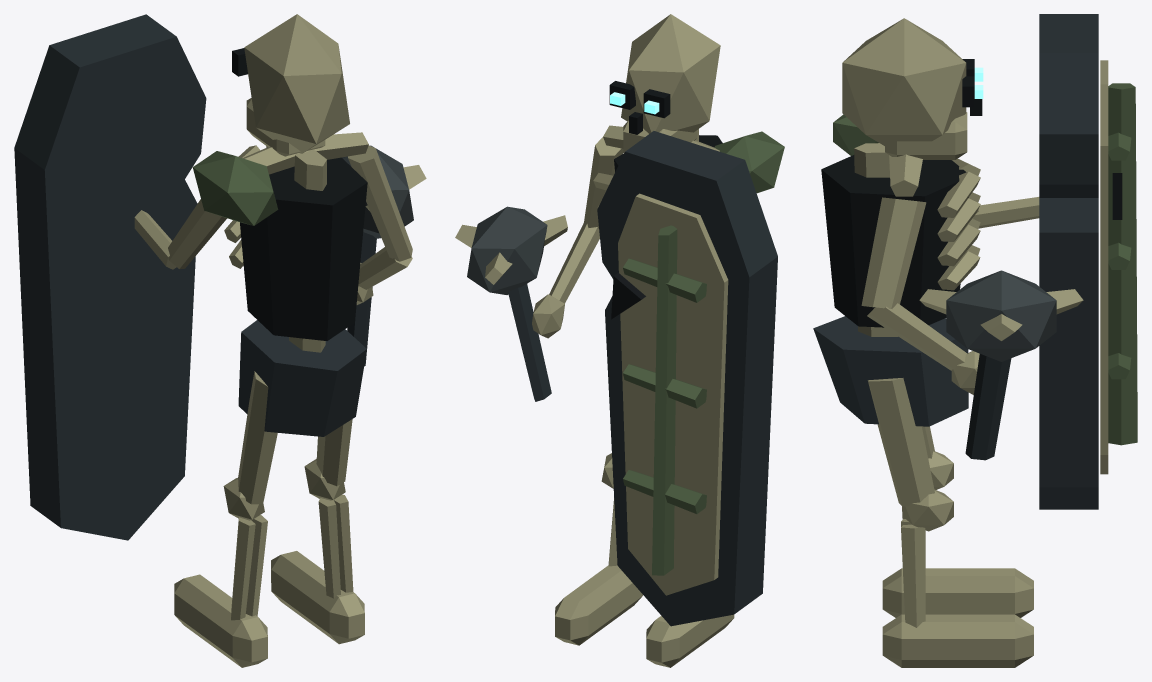
File: bone_shieldbearer.glb
3 renders of one model, left to right at view 1: azimuth 30°, elevation 25°; view 2: azimuth 150°, elevation 25°; view 3: azimuth 270°, elevation 25°, orthographic. The views are drawn at different scales.
Parts seen in each view (by area): view 1: bone_shieldbearer; view 2: bone_shieldbearer; view 3: bone_shieldbearer.
Part boxes in pixels (x1,y1,x2,y2): bone_shieldbearer: [14, 14, 426, 667]; bone_shieldbearer: [455, 14, 784, 667]; bone_shieldbearer: [813, 14, 1137, 667].
Bounding box in the file's own units: 1.05 × 1.8 × 0.85.
